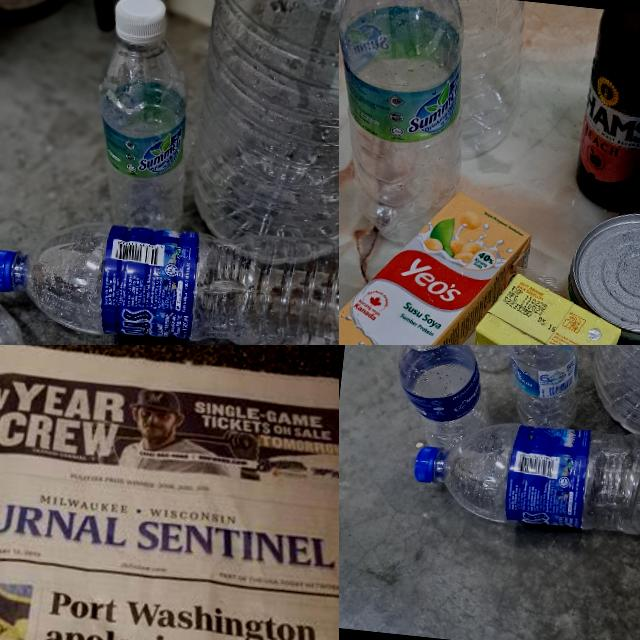caixinha: (339, 181, 533, 345), (456, 267, 625, 345)
garrafa de vidro: (573, 8, 640, 212)
garrafa plástica: (187, 0, 339, 279), (30, 216, 339, 345), (339, 0, 476, 252), (433, 415, 640, 548), (388, 0, 534, 162), (88, 43, 201, 230), (387, 345, 500, 452), (495, 345, 588, 428)
lata: (557, 208, 640, 345)
papel: (0, 345, 339, 640)
tampa plástica: (111, 0, 164, 47), (412, 445, 439, 483), (0, 245, 20, 295)
